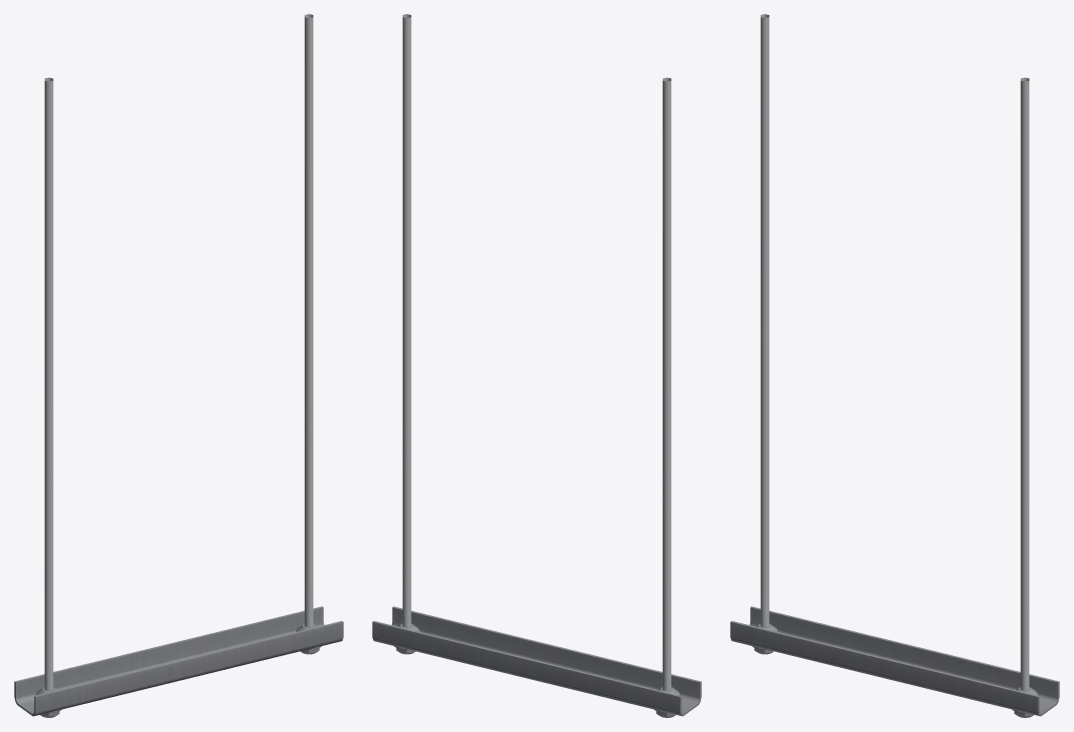
File: hanger.gltf
3 views of the same model, side by side, from view 1: azimuth 30°, elevation 25°; view 2: azimuth 150°, elevation 25°; view 3: azimuth 330°, elevation 25° (orthographic).
Visible parts, largest first — view 1: hanger; view 2: hanger; view 3: hanger.
Part boxes in pixels (x1,y1,x2,y2): hanger: (14, 14, 343, 717); hanger: (372, 14, 701, 717); hanger: (730, 14, 1059, 717).
Size of the model in its own units: 1.07 by 2.11 by 0.1278.
Materials: 1 (1 with a texture image).
